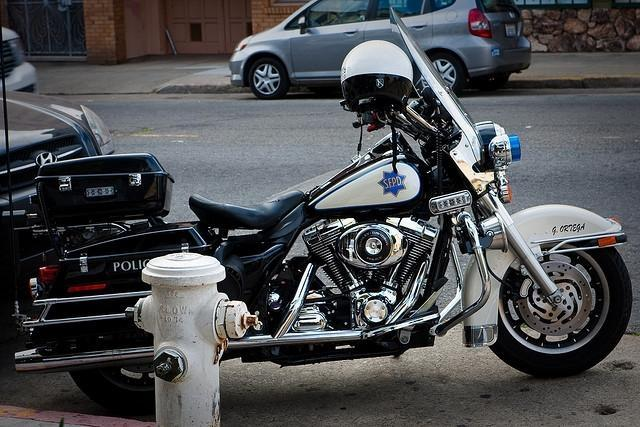car: (228, 0, 534, 104), (0, 74, 114, 227)
motorcycle: (13, 4, 632, 416)
truck: (0, 27, 38, 95)
